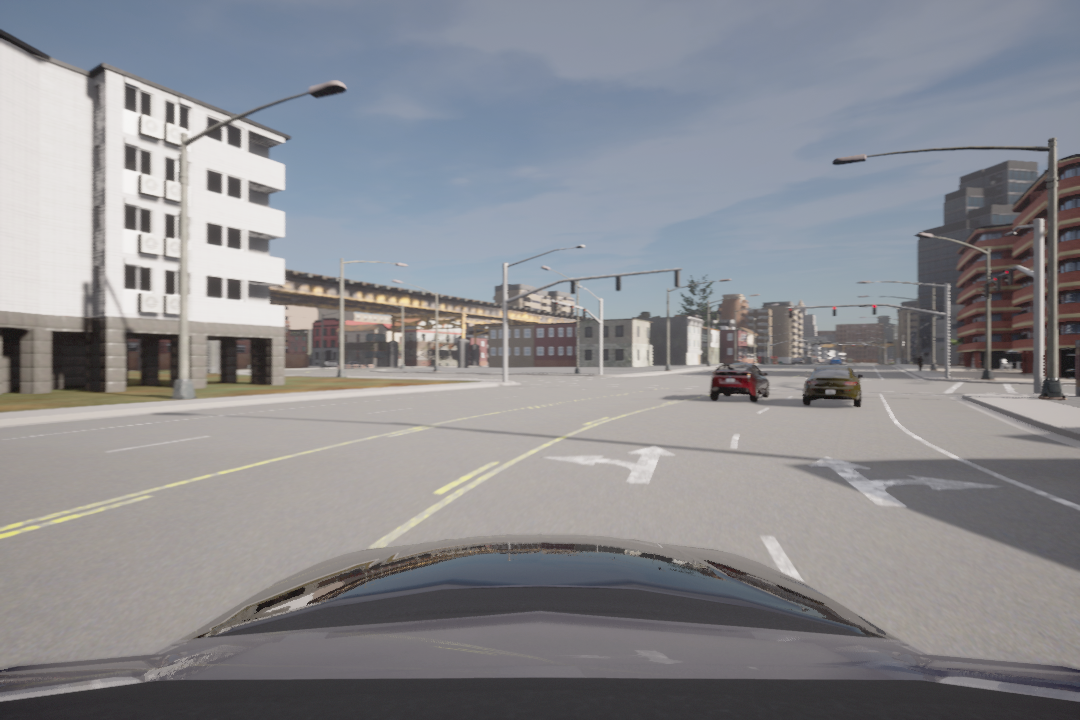RoadSign_forward_left: (539, 441, 685, 494)
RoadSign_forward_right: (810, 452, 1004, 513)
